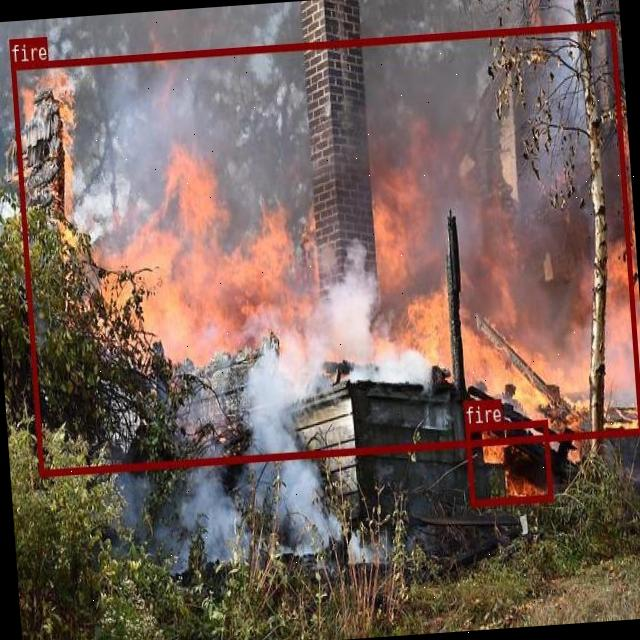fire: (10, 21, 640, 474), (464, 418, 552, 506)
